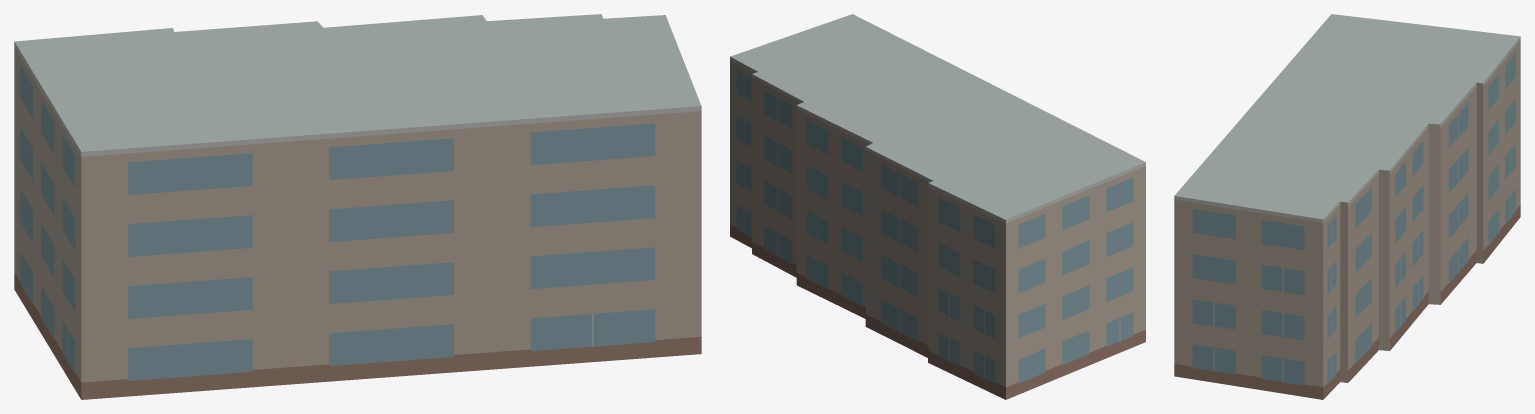
Rendered from survey-upis-32943425.glb.
The picture shows the model from 3 angles, left to right: view 1: azimuth 30°, elevation 25°; view 2: azimuth 150°, elevation 25°; view 3: azimuth 270°, elevation 25°; orthographic projection. The views are drawn at different scales.
Parts seen in each view (by area): view 1: survey-upis-32943425.tmp; view 2: survey-upis-32943425.tmp; view 3: survey-upis-32943425.tmp.
Boxes of the visible parts, x1,y1,x2,y2 form: survey-upis-32943425.tmp: (14, 14, 701, 399); survey-upis-32943425.tmp: (730, 14, 1145, 399); survey-upis-32943425.tmp: (1174, 14, 1520, 399).
Bounding box in the file's own units: 29.43 × 12.05 × 20.98.
